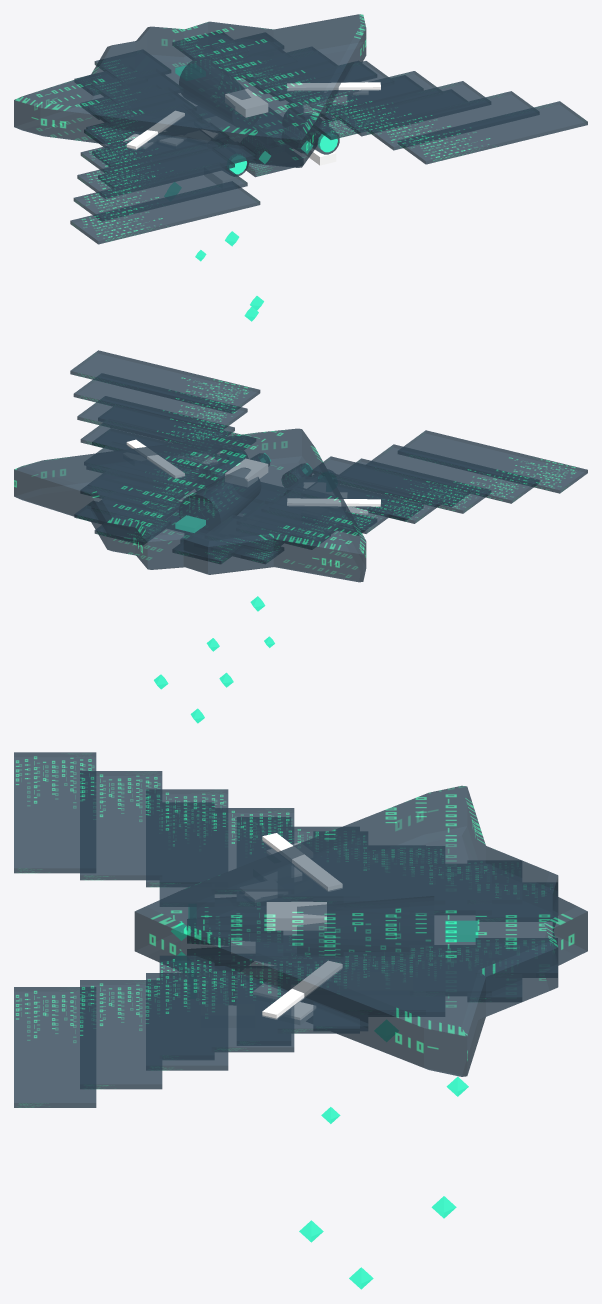
Rendered from bombardier.glb.
3 views of the same model, one above another, from view 1: azimuth 30°, elevation 25°; view 2: azimuth 150°, elevation 25°; view 3: azimuth 270°, elevation 25° (orthographic). The views are drawn at different scales.
Visible parts, largest first — view 1: guerrier; view 2: guerrier; view 3: guerrier.
Boxes of the visible parts, x1,y1,x2,y2 form: guerrier: (14,14,587,321); guerrier: (14,350,587,723); guerrier: (14,752,587,1289).
Size of the model in its own units: 3.02 by 1.49 by 2.09.
